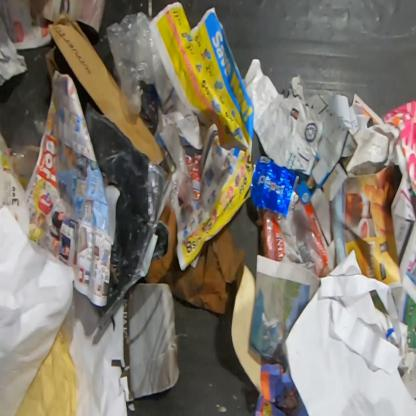cardboard: (43, 11, 164, 166), (147, 205, 245, 315)
metal: (250, 156, 299, 218)
rigid_plastic: (56, 296, 76, 344)
soft_plastic: (105, 8, 163, 117), (262, 203, 328, 278), (9, 120, 45, 178)
